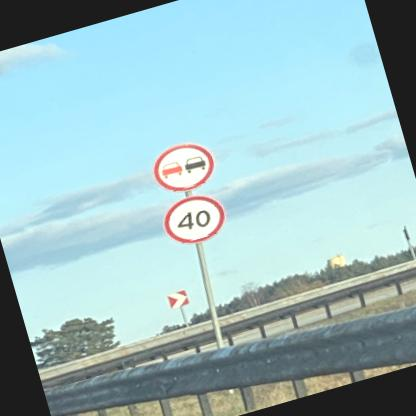speedlimit: (156, 189, 228, 251)
